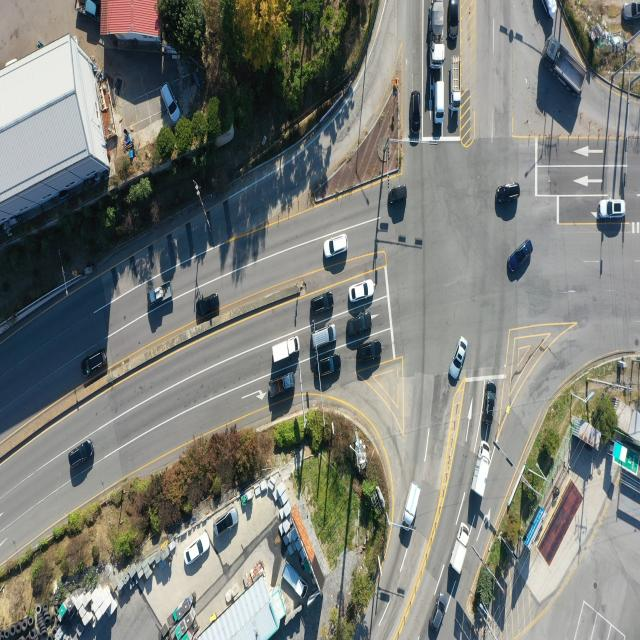car: (506, 236, 534, 283), (184, 530, 210, 567), (450, 336, 468, 379), (484, 380, 498, 434), (68, 438, 94, 467), (82, 350, 107, 379), (163, 84, 181, 124), (309, 324, 336, 350), (316, 354, 345, 378), (215, 510, 238, 538), (357, 339, 382, 364), (347, 316, 372, 340), (349, 279, 374, 303), (197, 296, 221, 319), (312, 292, 337, 314), (600, 200, 627, 220), (432, 594, 446, 632), (496, 185, 521, 206), (412, 91, 422, 142), (436, 78, 447, 124), (326, 234, 349, 256), (450, 1, 460, 48), (387, 186, 406, 206), (622, 1, 640, 21)
medium_truck: (542, 34, 586, 98), (432, 1, 447, 65)
small_truck: (472, 442, 493, 501), (448, 522, 469, 576), (283, 561, 308, 598), (404, 483, 422, 530), (272, 338, 301, 366), (269, 370, 295, 397), (449, 58, 461, 109), (73, 0, 99, 20), (148, 284, 170, 306), (542, 0, 560, 15)
